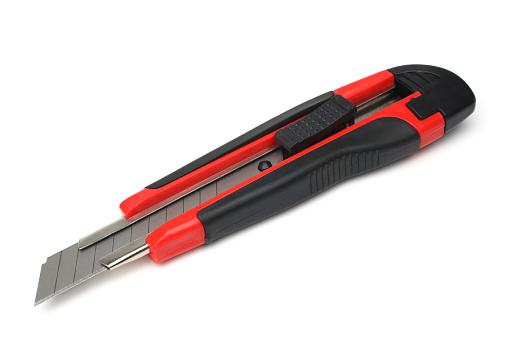knife: (23, 60, 480, 310)
